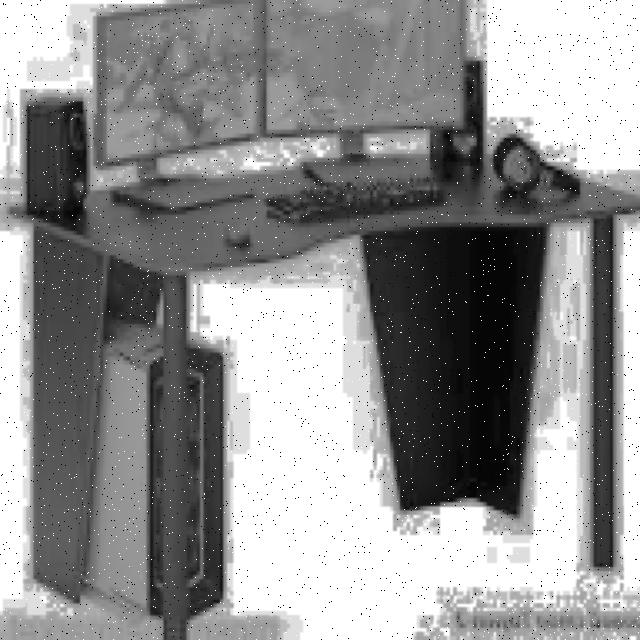table: (7, 146, 640, 640)
